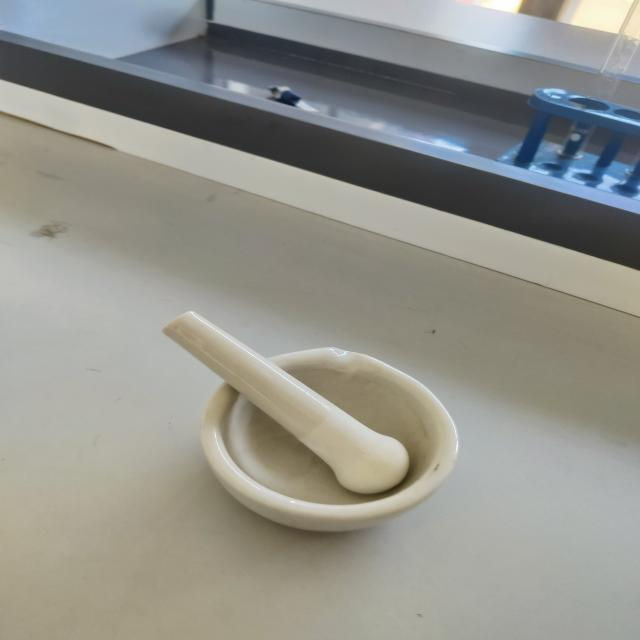Porcelain_Mortar Pestle: (128, 280, 486, 563)
